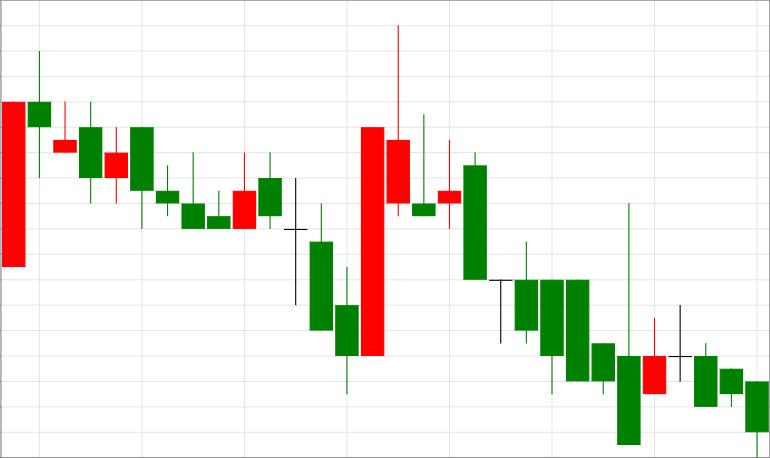bullish_engulfing_rise: (131, 127, 256, 229)
